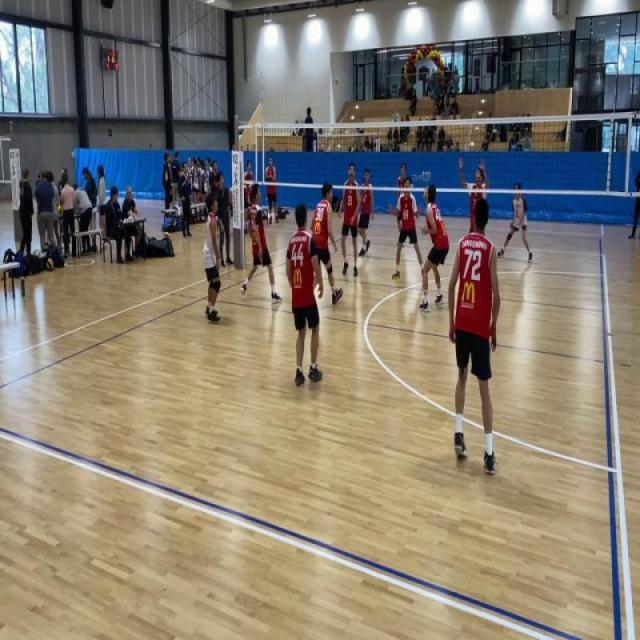volleyball: (46, 257, 54, 272), (334, 76, 340, 87), (163, 232, 170, 238), (58, 204, 62, 214), (148, 234, 153, 242)
